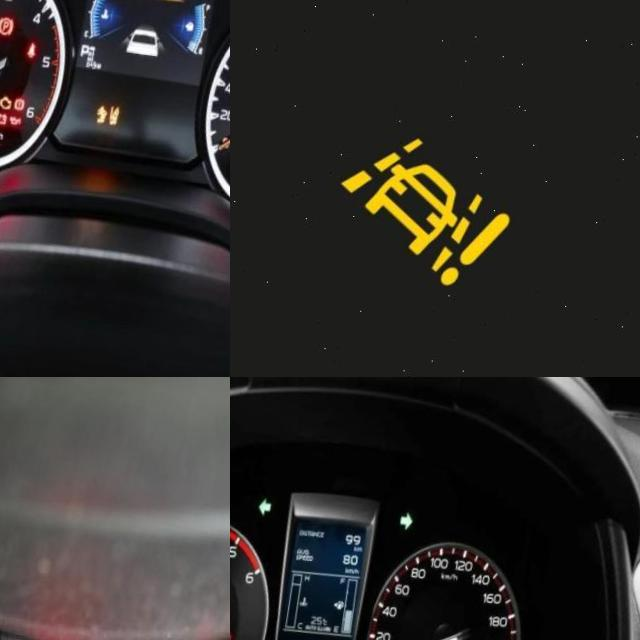Seat Belt: (33, 38, 46, 55)
